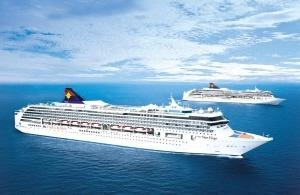youlun: (10, 86, 272, 157), (186, 80, 285, 106)
